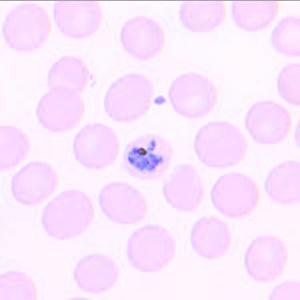Infected: (122, 133, 172, 179)
Uninfected: (104, 72, 153, 124), (41, 191, 94, 238), (2, 3, 53, 51), (167, 71, 217, 118), (194, 121, 245, 166), (128, 224, 176, 271), (73, 121, 119, 169), (37, 85, 83, 132), (99, 181, 147, 225), (211, 172, 259, 216), (162, 164, 205, 211), (244, 101, 290, 144), (10, 161, 55, 204), (54, 0, 104, 37), (246, 235, 286, 281), (120, 15, 163, 57), (46, 56, 90, 97), (189, 216, 230, 260), (73, 253, 120, 291), (264, 161, 300, 206), (178, 0, 226, 32), (231, 0, 280, 29), (269, 17, 300, 55)
